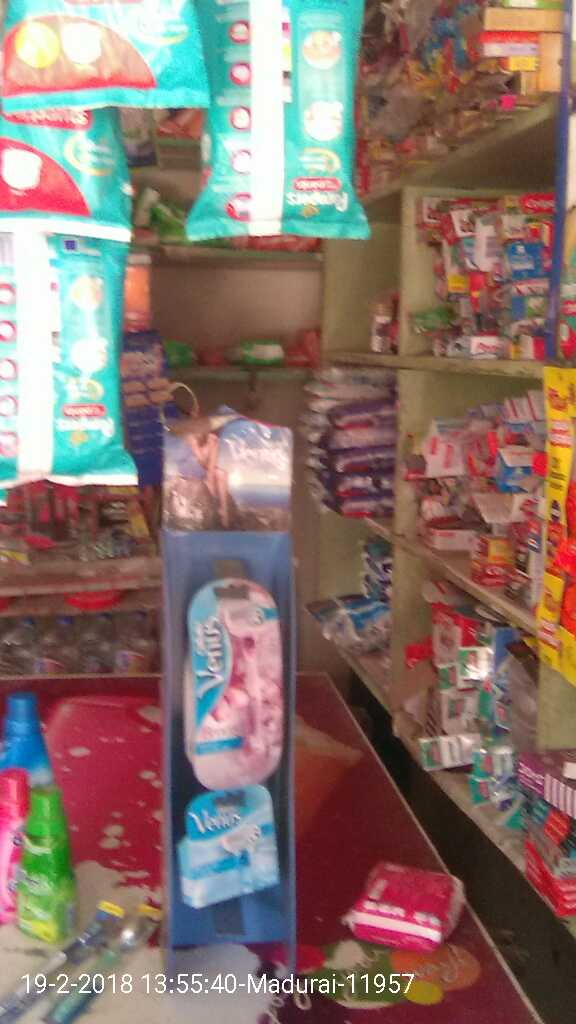venus: (176, 557, 300, 794), (159, 787, 298, 901)
